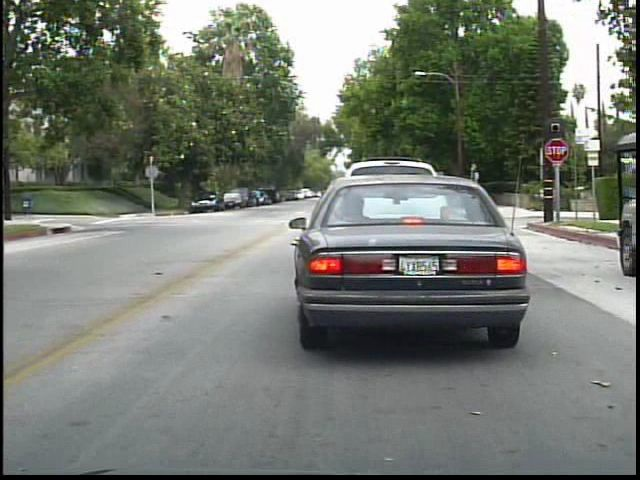person: (252, 186, 265, 209)
